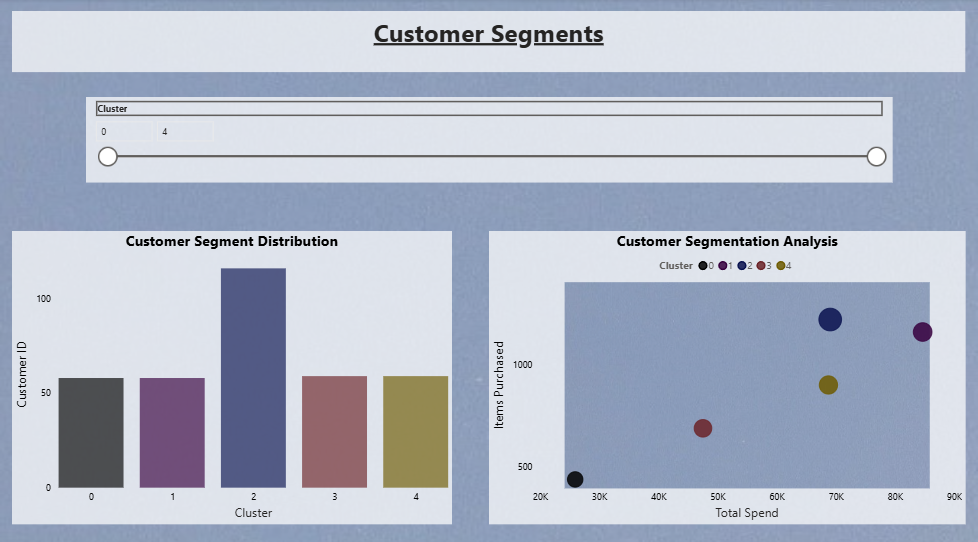

What the dashboard file says about the page in this screenshot:
{"tool":"powerbi","page":{"name":"Page 2","canvas":[1280,720],"ordinal":1},"visuals":[{"type":"textbox","box":[16,16,1248,80],"z":0},{"type":"columnChart","title":"Customer Segment Distribution","fields":{"Category":["clustered_customers.Cluster"],"Y":["CountNonNull(clustered_customers.Customer ID)"]},"box":[16,304,576,384],"z":1},{"type":"scatterChart","title":"Customer Segmentation Analysis","fields":{"X":["Sum(clustered_customers.Total Spend)"],"Y":["Sum(clustered_customers.Items Purchased)"],"Size":["Sum(clustered_customers.Average Rating)"],"Series":["clustered_customers.Cluster"]},"box":[640,304,624,384],"z":2},{"type":"slicer","fields":{"Values":["clustered_customers.Cluster"]},"box":[112,128,1056,112],"z":3}]}

Visuals, with their boxes in screenshot pixels (x1, y1, x2, y2), scaled from the page's 1280x720 canvas onto the 978x542 screenshot:
textbox: l=12, t=12, r=966, b=72
"Customer Segment Distribution" columnChart: l=12, t=229, r=452, b=518
"Customer Segmentation Analysis" scatterChart: l=489, t=229, r=966, b=518
slicer - clustered_customers.Cluster: l=86, t=96, r=892, b=181
